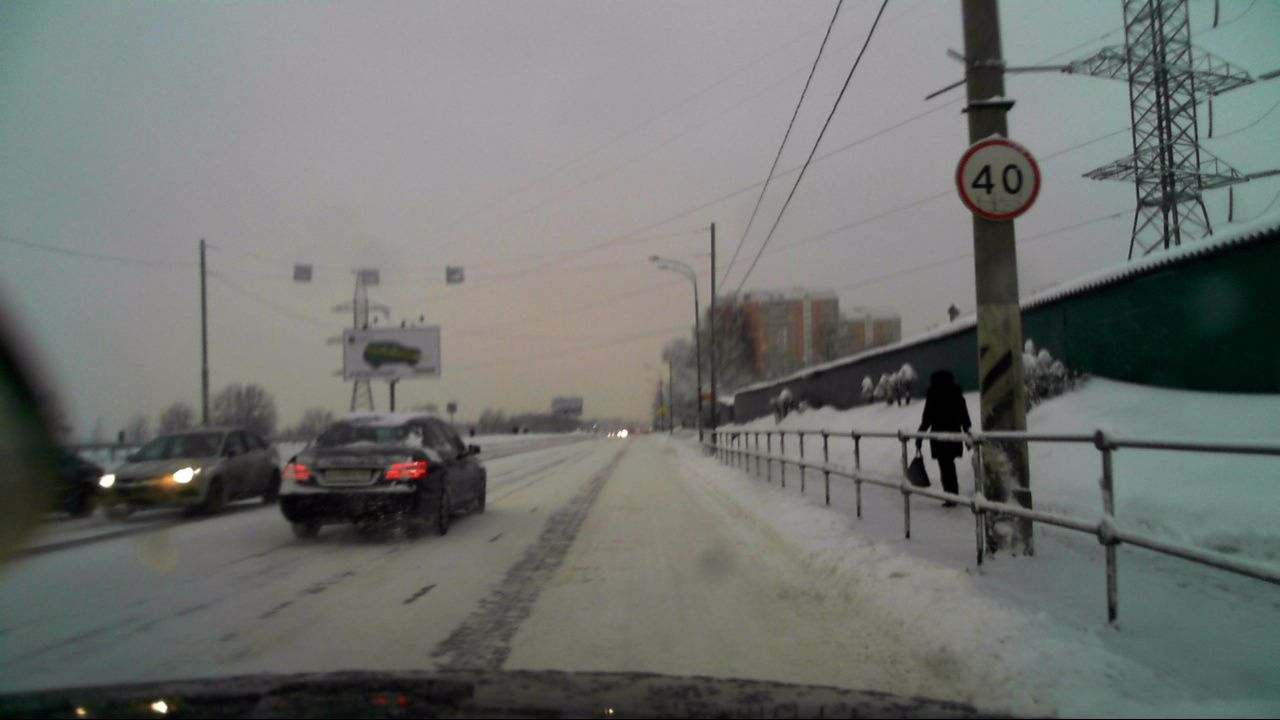speed_warning_40: (953, 135, 1041, 221)
